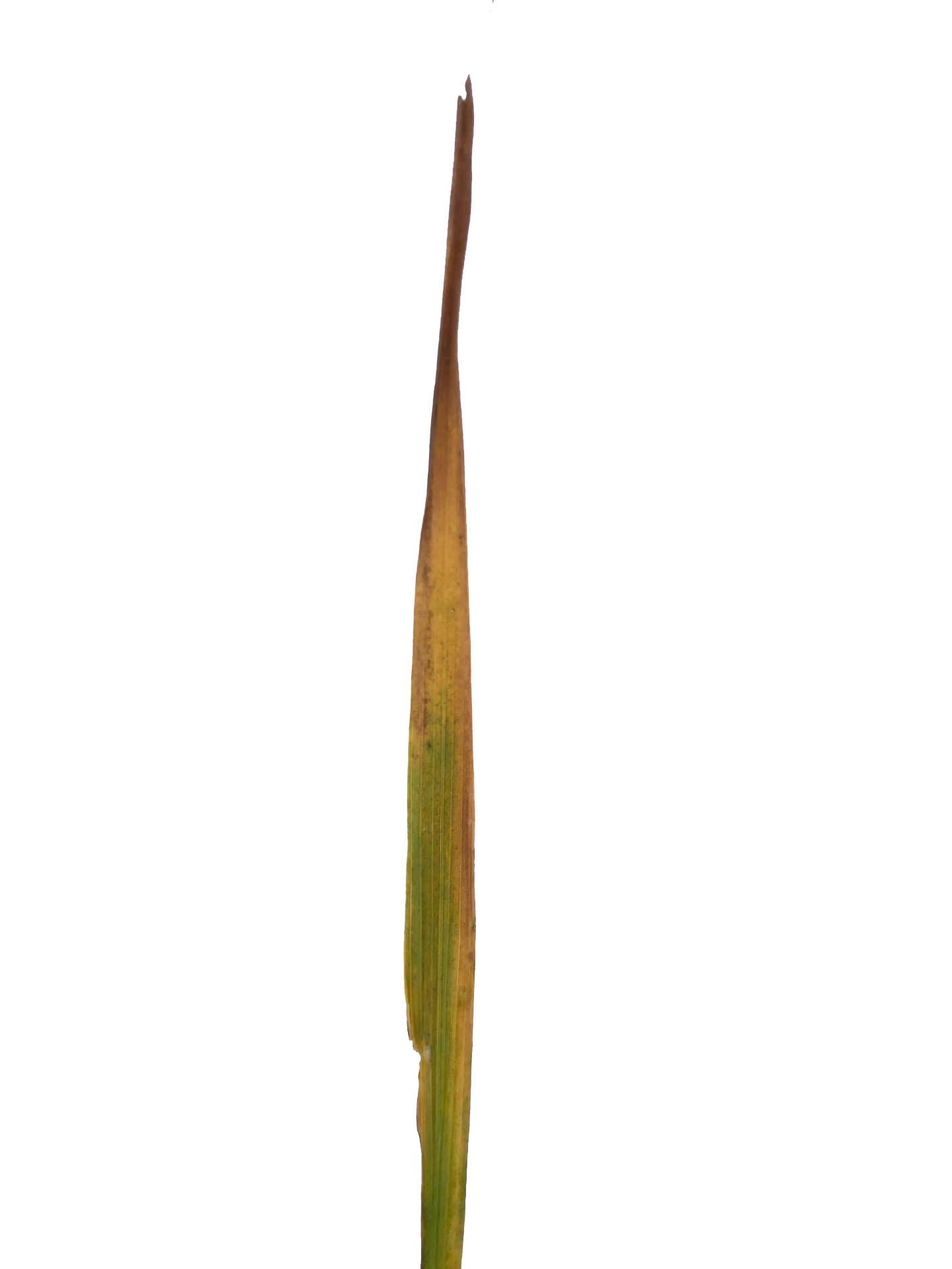Tungro: (402, 76, 478, 1269)
